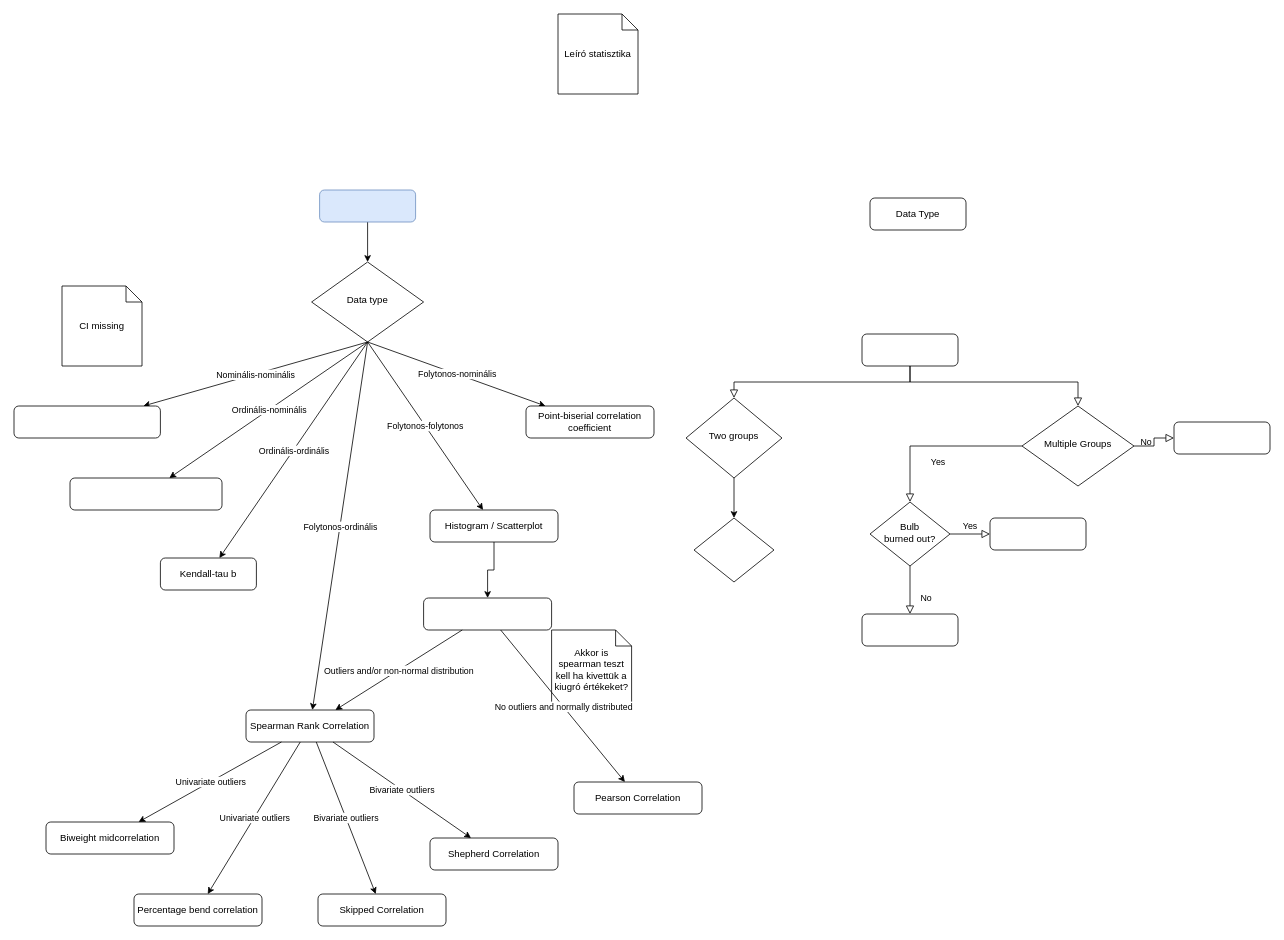
The diagram is 1284 pixels wide and 940 high, and some of its shapes have lost their labels. The shapes that lost their labels are listed below. From the top down, each one's centre as x and y in pixels, then its label:
the point at 367,205: Correlation
the point at 909,349: Number of groups?
the point at 86,421: Matthews correlation coefficient (MCC) or Phi coefficient
the point at 1221,437: Plug in lamp
the point at 145,493: Rank-biserial correlation coefficient
the point at 733,549: Repeated?
the point at 1037,533: Replace Bulb
the point at 487,613: Bivariate Normality
the point at 909,629: Repair Lamp
